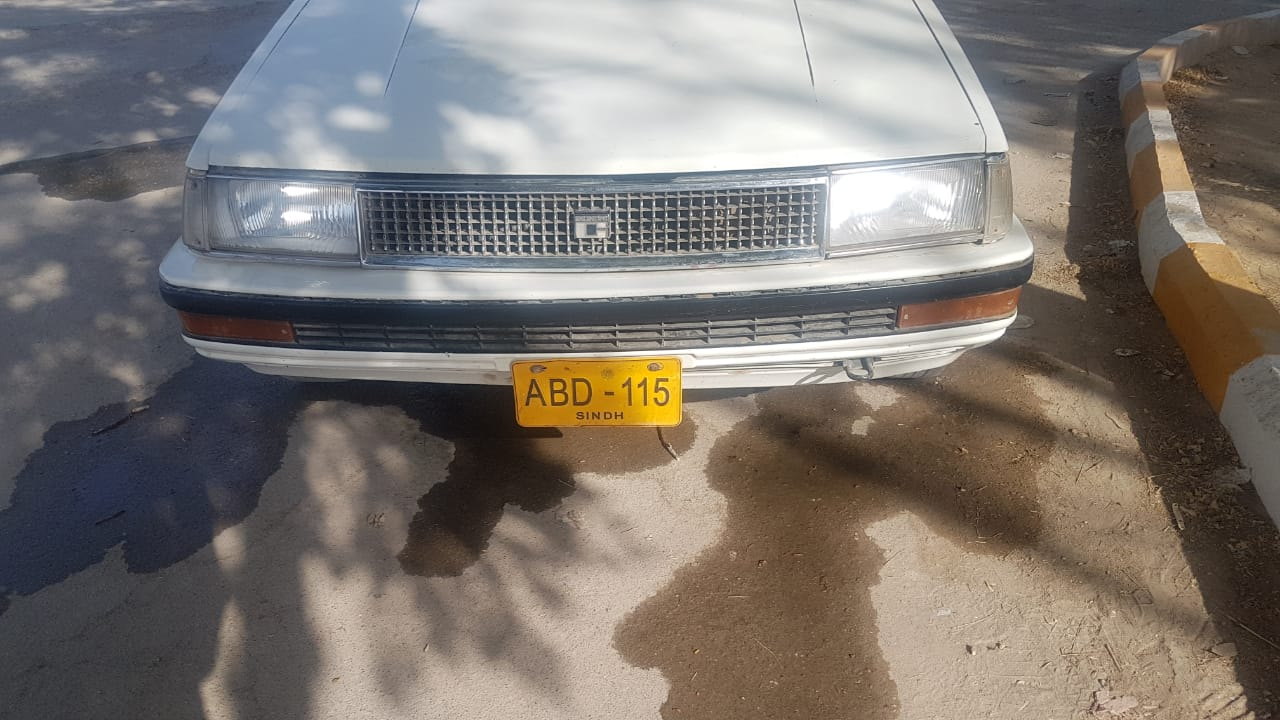license plate: (511, 358, 679, 424)
